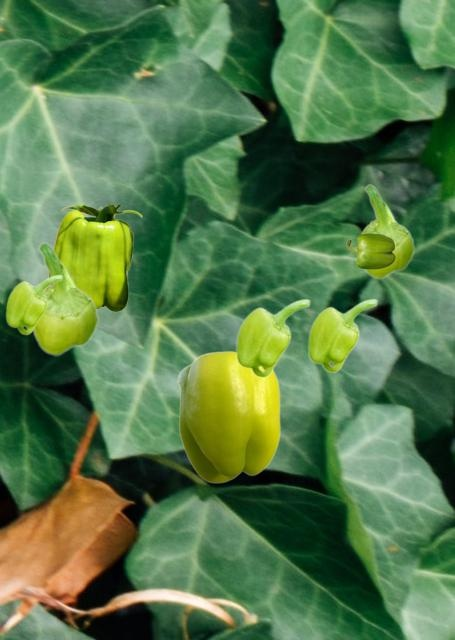bell_pepper: (177, 350, 279, 482), (48, 205, 141, 312), (31, 242, 98, 355), (235, 298, 310, 377), (358, 184, 414, 278), (307, 298, 377, 372), (5, 274, 62, 334), (346, 233, 394, 268)
